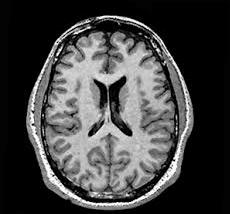Normal_Brain: (3, 1, 230, 214)
